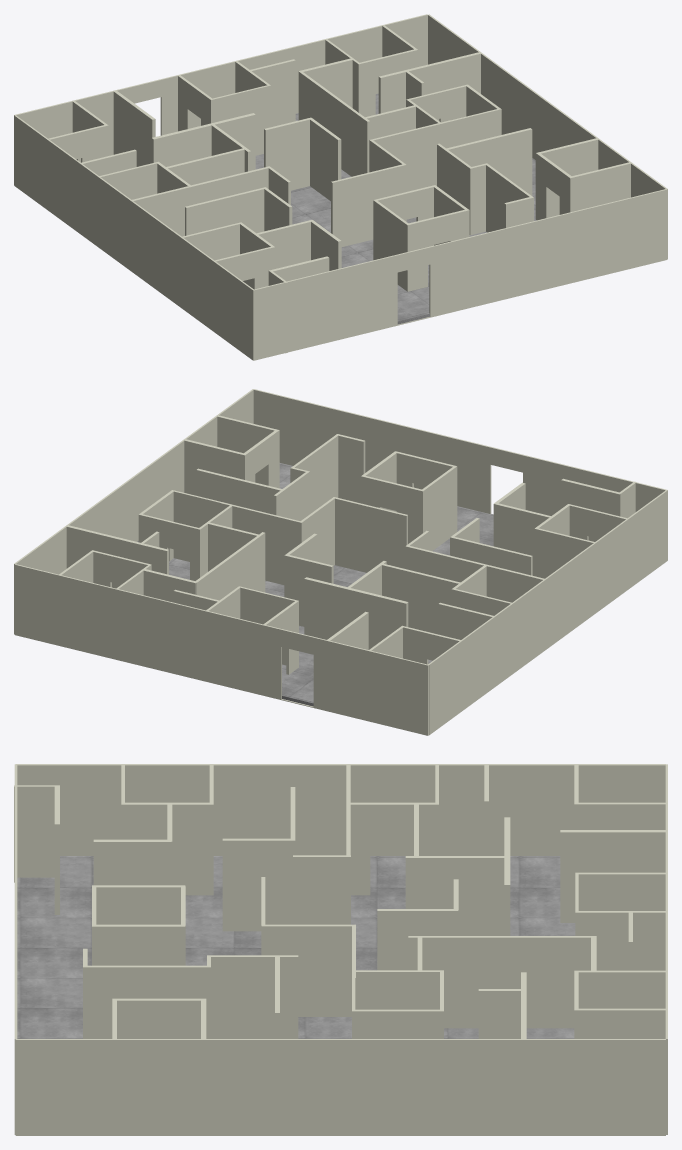
The model's file is rooms for drone denied simulation.glb.
3 views of the same model, one above another, from view 1: azimuth 30°, elevation 25°; view 2: azimuth 150°, elevation 25°; view 3: azimuth 270°, elevation 25° (orthographic). The views are drawn at different scales.
Visible parts, largest first — view 1: polySurface1, pCube3, polySurface13, pCube4, Obj_pCube36, pCube1, pCube38, pCube41, pCube36, pCube44, Obj_pCube35_3, pCube35 (+44 smaller); view 2: polySurface13, pCube3, polySurface1, pCube4, pCube36, Obj_pCube36, pCube1, Obj_pCube35_1, Obj_pCube35_3, pCube38, pCube41, pCube28 (+40 smaller); view 3: pCube4, pCube3, pCube1, pCube38, pCube43, Obj_pCube34_1, pCube34, Obj_pCube34_3, Obj_pCube35_4, pCube25, pCube48, polySurface8 (+19 smaller).
Part boxes in pixels (x1=…): polySurface1: x1=253, y1=189, x2=666, y2=360; pCube3: x1=14, y1=115, x2=254, y2=360; polySurface13: x1=14, y1=14, x2=427, y2=184; pCube4: x1=428, y1=14, x2=667, y2=259; Obj_pCube36: x1=331, y1=164, x2=405, y2=246; pCube1: x1=255, y1=93, x2=536, y2=324; pCube38: x1=299, y1=71, x2=370, y2=176; pCube41: x1=378, y1=52, x2=480, y2=120; pCube36: x1=151, y1=113, x2=255, y2=170; pCube44: x1=446, y1=128, x2=532, y2=195; Obj_pCube35_3: x1=369, y1=120, x2=450, y2=191; pCube35: x1=185, y1=188, x2=264, y2=235; polySurface13: x1=14, y1=564, x2=428, y2=735; pCube3: x1=428, y1=490, x2=667, y2=735; polySurface1: x1=253, y1=389, x2=667, y2=515; pCube4: x1=14, y1=389, x2=253, y2=634; pCube36: x1=304, y1=577, x2=408, y2=649; Obj_pCube36: x1=335, y1=497, x2=407, y2=572; pCube1: x1=137, y1=463, x2=493, y2=706; Obj_pCube35_1: x1=382, y1=563, x2=460, y2=634; Obj_pCube35_3: x1=221, y1=502, x2=302, y2=584; pCube38: x1=194, y1=532, x2=265, y2=600; pCube41: x1=66, y1=525, x2=168, y2=588; pCube28: x1=420, y1=465, x2=457, y2=550; pCube4: x1=15, y1=1039, x2=665, y2=1135; pCube3: x1=15, y1=764, x2=665, y2=855; pCube1: x1=17, y1=856, x2=575, y2=1038; pCube38: x1=408, y1=936, x2=594, y2=1028; pCube43: x1=211, y1=955, x2=298, y2=1038; Obj_pCube34_1: x1=405, y1=856, x2=505, y2=935; pCube34: x1=222, y1=838, x2=295, y2=931; Obj_pCube34_3: x1=261, y1=924, x2=355, y2=1016; Obj_pCube35_4: x1=87, y1=965, x2=210, y2=1038; pCube25: x1=122, y1=802, x2=212, y2=895; pCube48: x1=560, y1=830, x2=665, y2=922; polySurface8: x1=350, y1=802, x2=438, y2=895.
Bounding box in the file's own units: 15.06 × 2.44 × 15.09.
2 materials, 1 textured.
